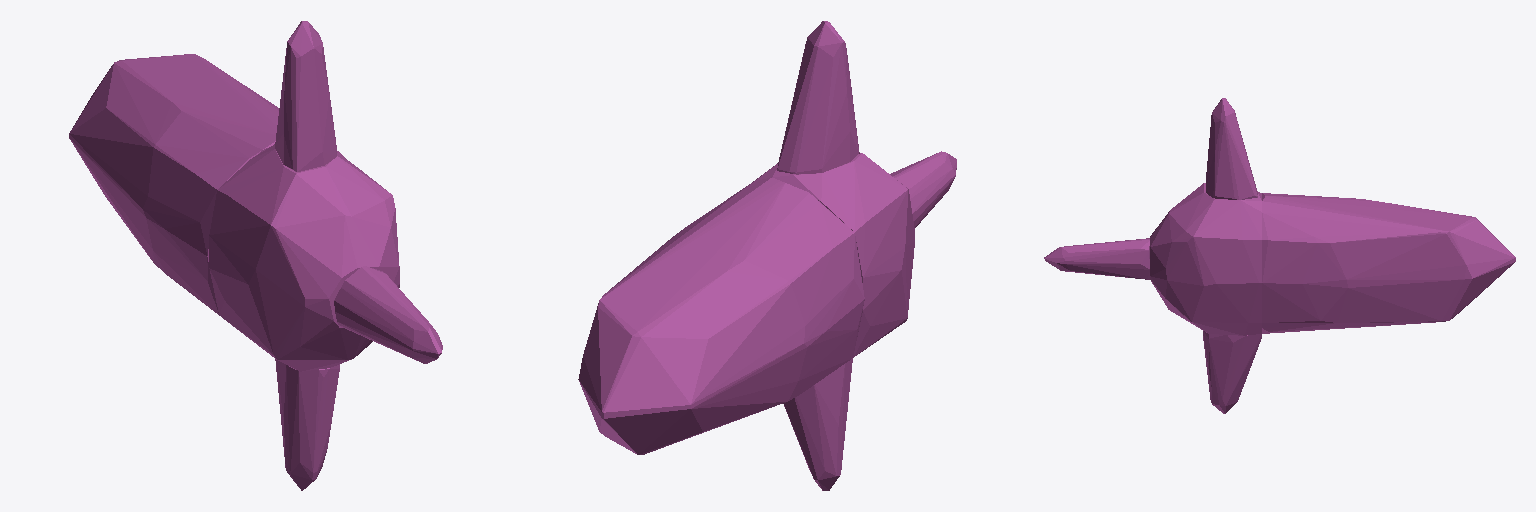
robot.urdf — blob517:
<robot name="blob517">
  <link name="random_obj_517">
    <contact>
      <lateral_friction value="1.0"/>
      <rolling_friction value="0.0"/>
      <inertia_scaling value="3.0"/>
      <contact_cfm value="0.0"/>
      <contact_erp value="1.0"/>
    </contact>
    <inertial>
      <origin rpy="0 0 0" xyz="0 0 0"/>
      <mass value="0.1"/>
      <inertia ixx="1" ixy="0" ixz="0" iyy="1" iyz="0" izz="0"/>
    </inertial>
    <visual>
      <origin rpy="0 0 0" xyz="0 0 0"/>
      <geometry>
        <mesh filename="517.obj" scale="0.015 0.015 0.015"/>
      </geometry>
      <material name="blockmat">
        <color rgba="0.70 0.39 0.65 1"/>
      </material>
    </visual>
    <collision>
      <origin rpy="0 0 0" xyz="0 0 0"/>
      <geometry>
        <mesh filename="517.obj" scale="0.015 0.015 0.015"/>
      </geometry>
    </collision>
  </link>
</robot>

--- What the picture shows (computed from the rendered views, not written in the file) ---
Views: 3 orthographic renders of the robot side by side, from view 1: azimuth 30°, elevation 25°; view 2: azimuth 150°, elevation 25°; view 3: azimuth 270°, elevation 25°.
Model blob517 with 1 links and 0 joints (none), rooted at random_obj_517, posed every joint at zero.
Links seen in each view (by area): view 1: random_obj_517; view 2: random_obj_517; view 3: random_obj_517.
Boxes of the visible links, x1=… form: random_obj_517: x1=69, y1=21, x2=442, y2=490; random_obj_517: x1=578, y1=21, x2=956, y2=490; random_obj_517: x1=1044, y1=98, x2=1515, y2=413.
Size in the robot's own frame: 0.0303 by 0.1207 by 0.0892 metres.
1 mesh visuals loaded from 1 distinct referenced files (1 OBJ).